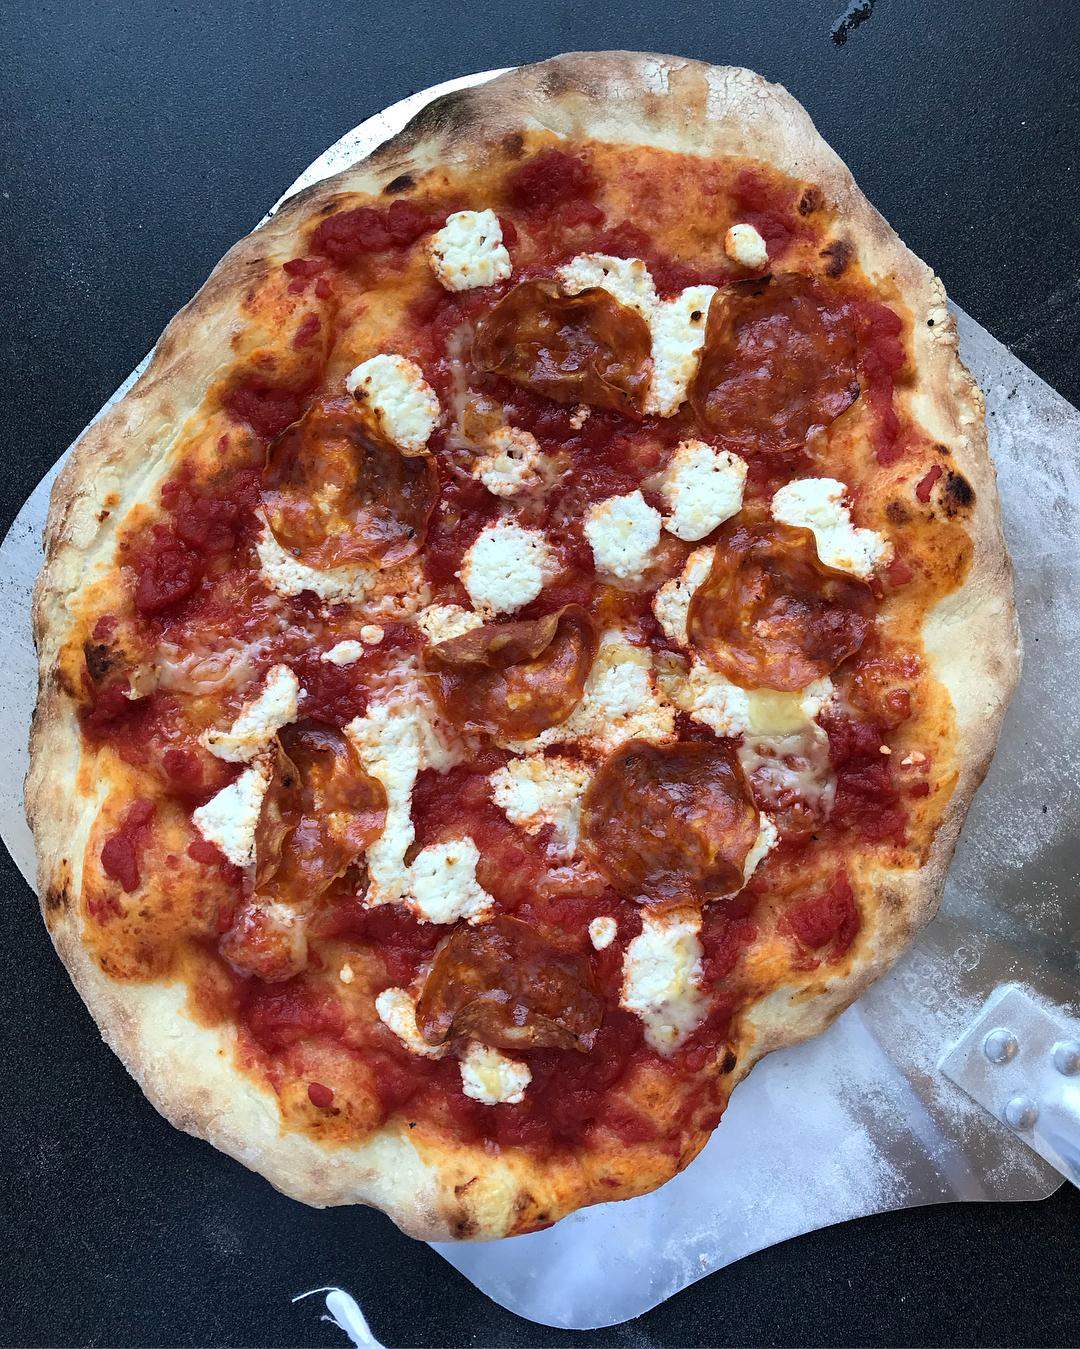Cheese: (561, 258, 710, 409), (768, 482, 894, 582), (622, 911, 710, 1048), (355, 711, 412, 897), (561, 651, 676, 744), (698, 668, 829, 746), (181, 765, 281, 864), (201, 671, 303, 755), (355, 358, 441, 453), (658, 438, 738, 537), (495, 768, 594, 849), (454, 531, 550, 608), (408, 844, 496, 928), (421, 212, 511, 293), (587, 498, 660, 571), (454, 1045, 529, 1097), (475, 431, 529, 493)
Pepperoni: (154, 727, 363, 893), (698, 284, 856, 466), (594, 737, 752, 906), (411, 911, 612, 1044), (414, 604, 592, 748), (461, 281, 634, 422), (701, 531, 858, 672), (268, 418, 423, 558)
Pizza: (25, 57, 1009, 1219)
